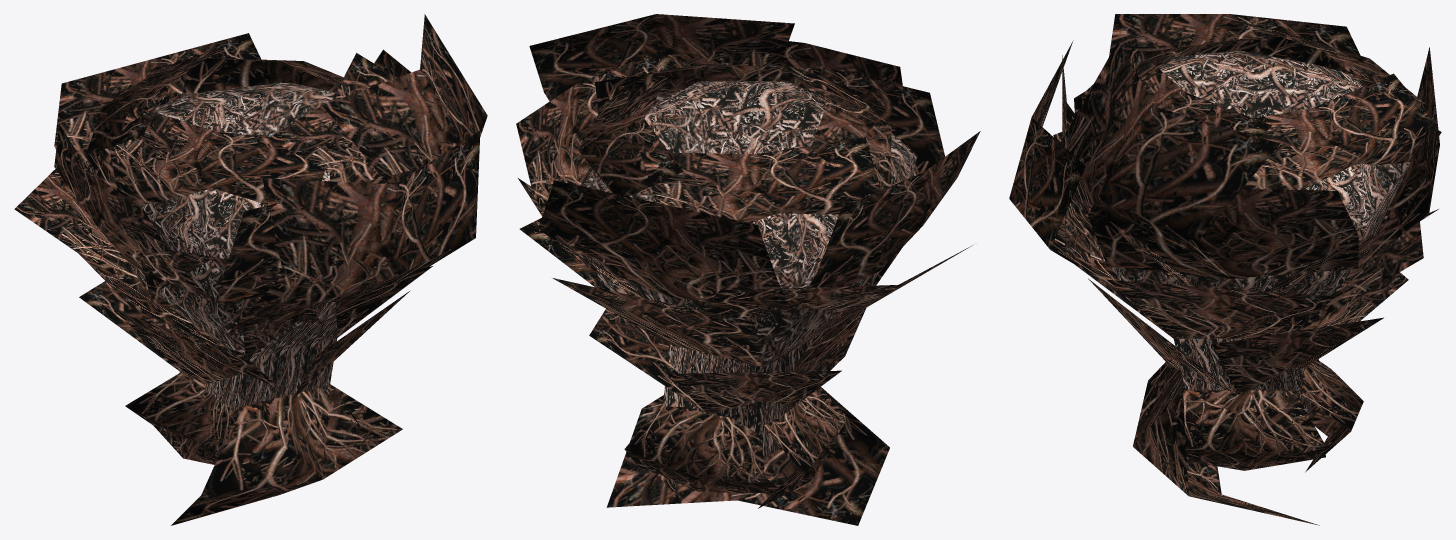
Rendered from poi_all_lair_thicket_large_l1.fbx.
3 views of the same model, side by side, from view 1: azimuth 30°, elevation 25°; view 2: azimuth 150°, elevation 25°; view 3: azimuth 270°, elevation 25° (orthographic). The views are drawn at different scales.
Parts seen in each view (by area): view 1: mesh_node; view 2: mesh_node; view 3: mesh_node.
Part boxes in pixels (<box>): mesh_node: <box>14,14,487,525</box>; mesh_node: <box>516,14,980,525</box>; mesh_node: <box>1009,14,1441,525</box>.
Size of the model in its own units: 5.07 by 5.06 by 4.41.
